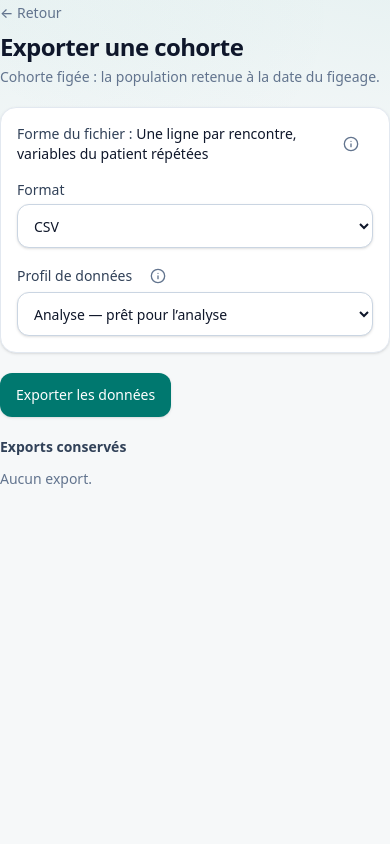
ExportPanel › l aide du profil passe derriere un ⓘ et decrit toujours le champ
Expected: the heading "Exporter une cohorte" is shown, left=0, top=30, right=243, bottom=63
What coordinates should you click on to do the following:
click the button named "À propos de « Profil de données »"
I would click on:
 (158, 276)
Its box is left=136, top=254, right=180, bottom=298.
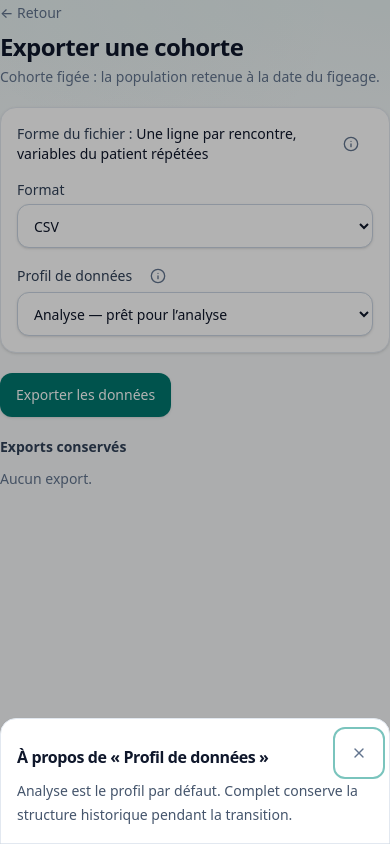
Result: the dialog "À propos de « Profil de données »" shows "Complet conserve la structure historique" at left=17, top=781, right=358, bottom=824
